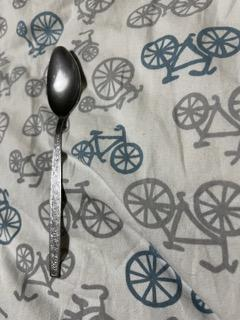spoon: (46, 44, 83, 279)
